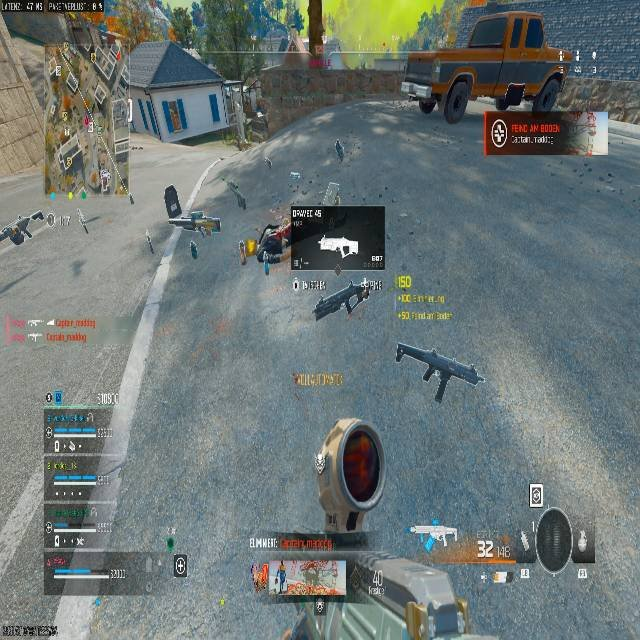player: (394, 340, 482, 403), (254, 215, 291, 276)
